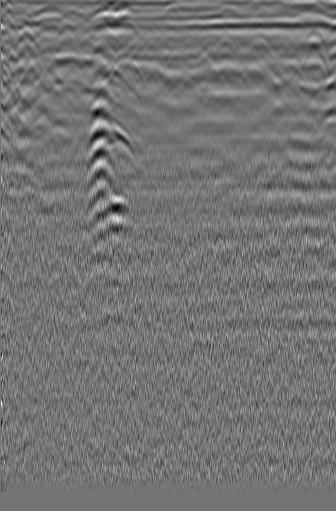가스: (80, 154, 117, 185)
상수: (9, 24, 46, 64)
오수: (293, 29, 331, 68)
우수: (130, 25, 167, 54)
